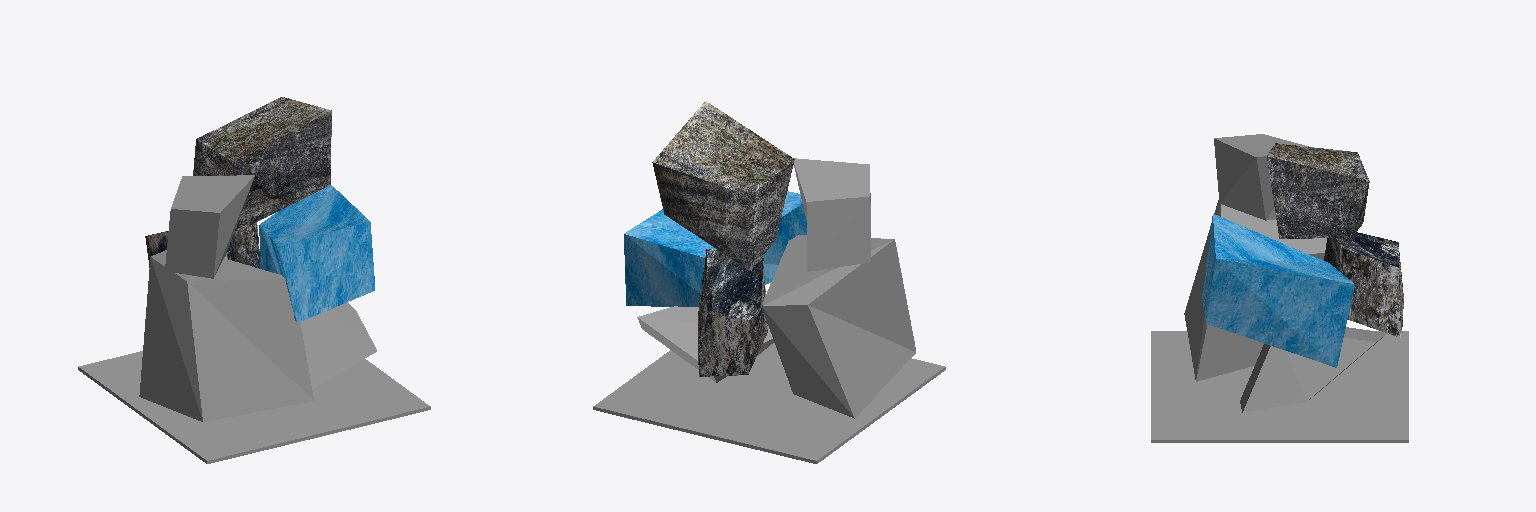
3 views of the same model, side by side, from view 1: azimuth 30°, elevation 25°; view 2: azimuth 150°, elevation 25°; view 3: azimuth 270°, elevation 25° (orthographic).
Visible parts, largest first — view 1: Cube.004_Cube, Cube.006_Cube.005, Cube.002, Cube.003, Cube_Cube.004, Cube.001, Cube.005_Cube.006; view 2: Cube.004_Cube, Cube.006_Cube.005, Cube.002, Cube.003, Cube.005_Cube.006, Cube_Cube.004, Cube.001; view 3: Cube.006_Cube.005, Cube.003, Cube.002, Cube.005_Cube.006, Cube.004_Cube, Cube.001, Cube_Cube.004.
Boxes of the visible parts, <box> form: Cube.004_Cube: <box>139,250,313,421</box>; Cube.006_Cube.005: <box>78,351,430,463</box>; Cube.002: <box>193,97,331,231</box>; Cube.003: <box>259,185,374,322</box>; Cube_Cube.004: <box>165,175,254,278</box>; Cube.001: <box>300,302,376,389</box>; Cube.005_Cube.006: <box>145,222,259,268</box>; Cube.004_Cube: <box>763,235,915,418</box>; Cube.006_Cube.005: <box>593,343,945,463</box>; Cube.002: <box>652,101,794,271</box>; Cube.003: <box>624,191,806,306</box>; Cube.005_Cube.006: <box>698,248,767,376</box>; Cube_Cube.004: <box>794,158,870,271</box>; Cube.001: <box>637,306,773,382</box>; Cube.006_Cube.005: <box>1151,331,1408,442</box>; Cube.003: <box>1202,214,1354,367</box>; Cube.002: <box>1267,143,1369,238</box>; Cube.005_Cube.006: <box>1324,232,1403,337</box>; Cube.004_Cube: <box>1184,200,1326,381</box>; Cube.001: <box>1240,327,1387,412</box>; Cube_Cube.004: <box>1214,134,1308,220</box>.
Bounding box in the file's own units: 0.5866 × 0.6614 × 0.5785.
7 materials, 3 textured.